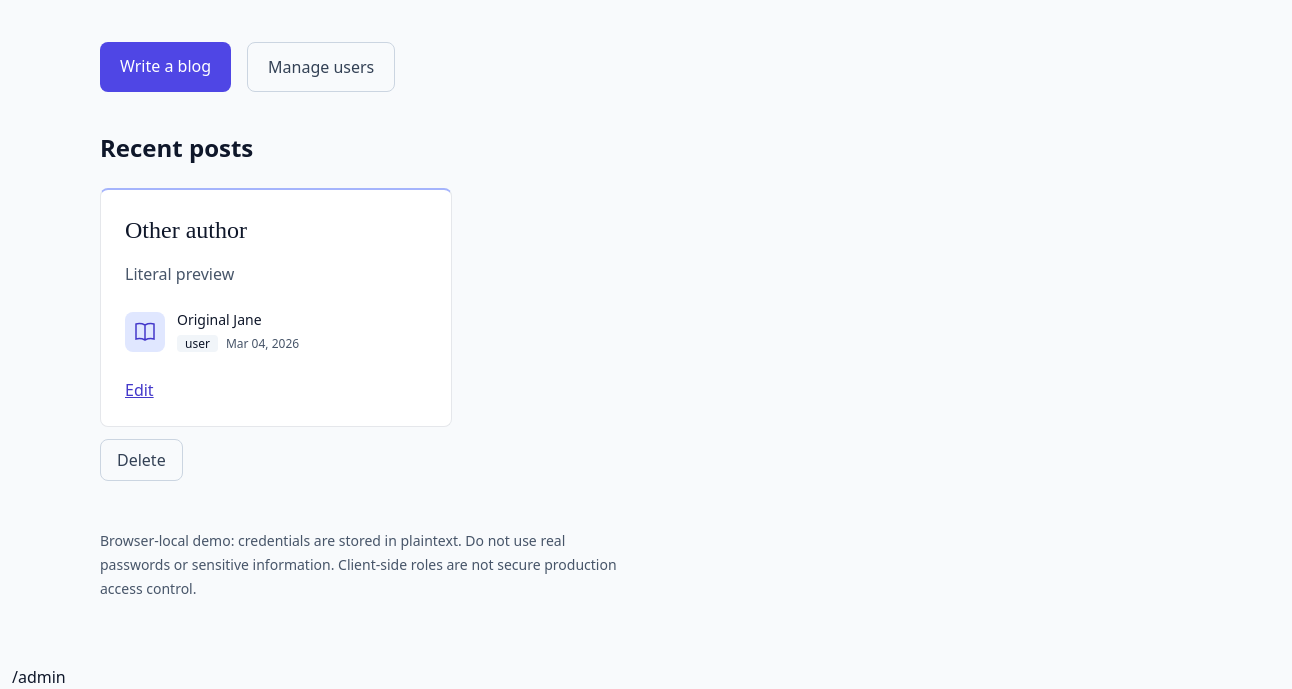
Scenario: deletion branch success preserves integrity and errors never redirect
The width and height of the screenshot is (1292, 689).
(page scrolled)
Click the button with aria-label "Delete Other author" at (141, 460), box 100,439 -> 183,481
(page scrolled)
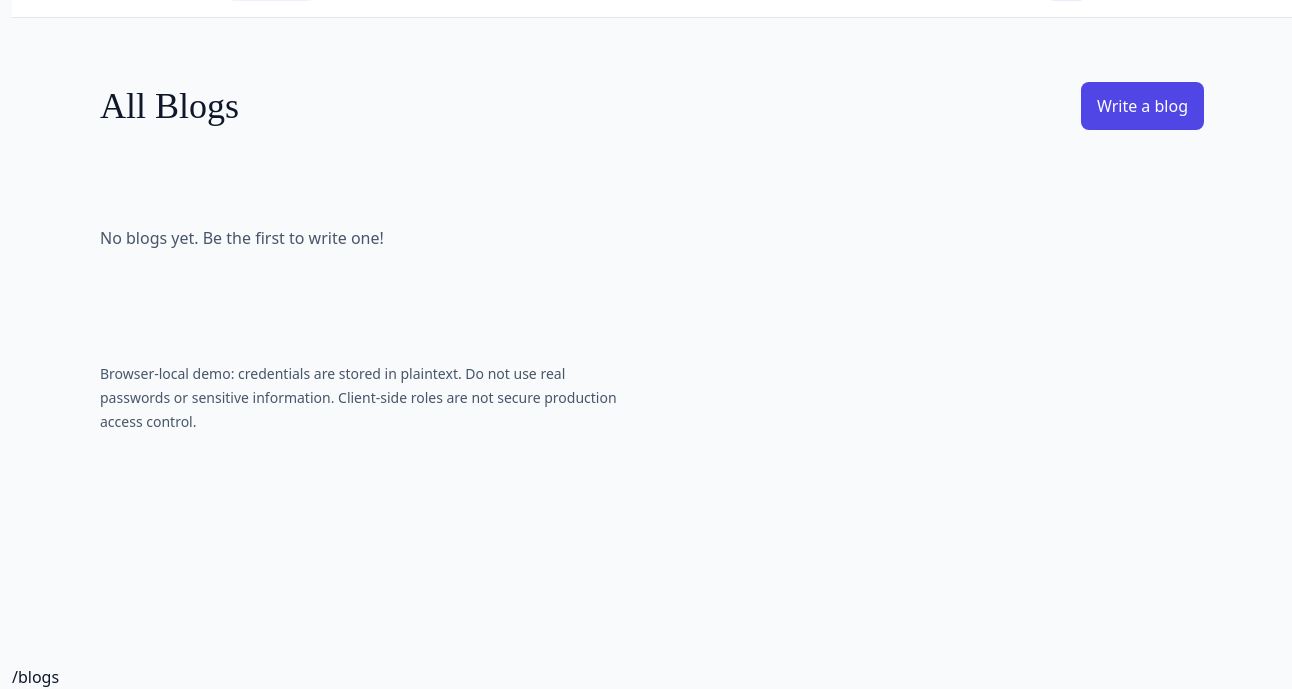
Result: the text named "Location" reads "/blogs" at 12,666 -> 59,688
